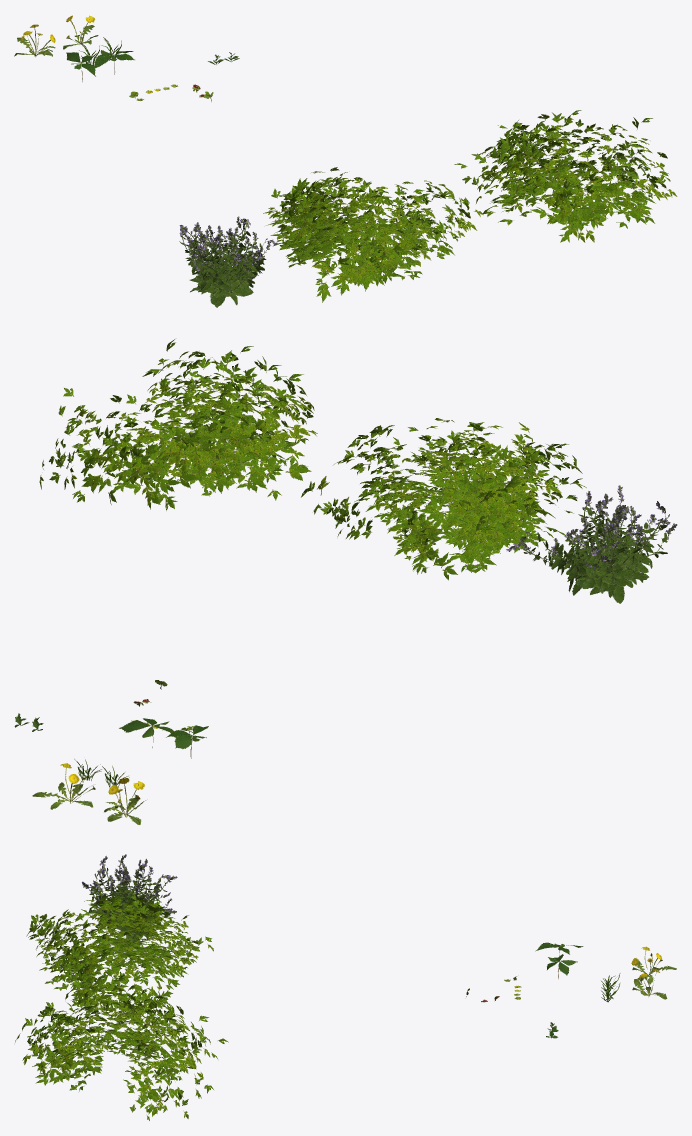
Rendered from veg_plants.glb.
3 renders of one model, top to bottom at view 1: azimuth 30°, elevation 25°; view 2: azimuth 150°, elevation 25°; view 3: azimuth 270°, elevation 25°, orthographic. The views are drawn at different scales.
Parts seen in each view (by area): view 1: Object_9, Object_8, Object_17, Object_7, Object_3; view 2: Object_8, Object_9, Object_17, Object_7, Object_3; view 3: Object_8, Object_9, Object_17, Object_7, Object_3.
Part boxes in pixels (x1,y1,x2,y2): Object_9: [263, 167, 483, 302]; Object_8: [454, 110, 677, 242]; Object_17: [179, 216, 278, 307]; Object_7: [14, 15, 98, 57]; Object_3: [66, 50, 239, 81]; Object_8: [39, 339, 317, 510]; Object_9: [301, 418, 586, 580]; Object_17: [506, 485, 677, 603]; Object_7: [32, 763, 145, 824]; Object_3: [14, 713, 208, 758]; Object_8: [15, 975, 228, 1120]; Object_9: [26, 890, 213, 1026]; Object_17: [82, 854, 177, 944]; Object_7: [631, 946, 676, 999]; Object_3: [535, 942, 583, 1038].
Size of the model in its own units: 11.31 by 2.3 by 15.05.
6 materials, 6 textured.
